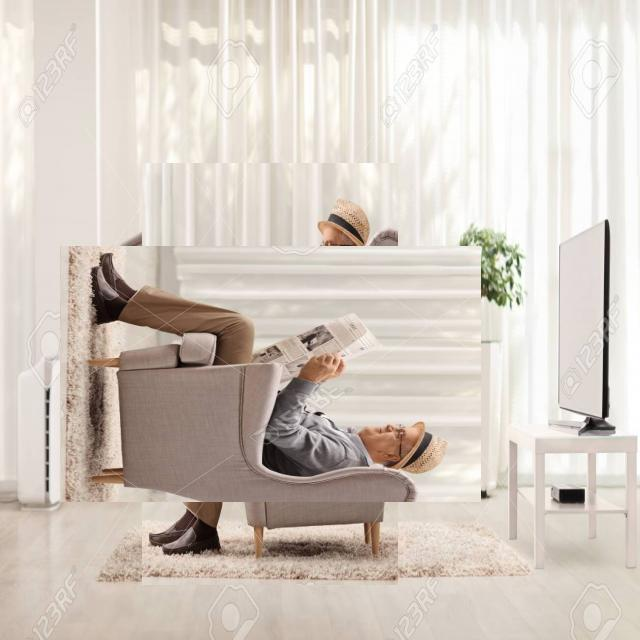NotFall: (70, 209, 448, 562)
